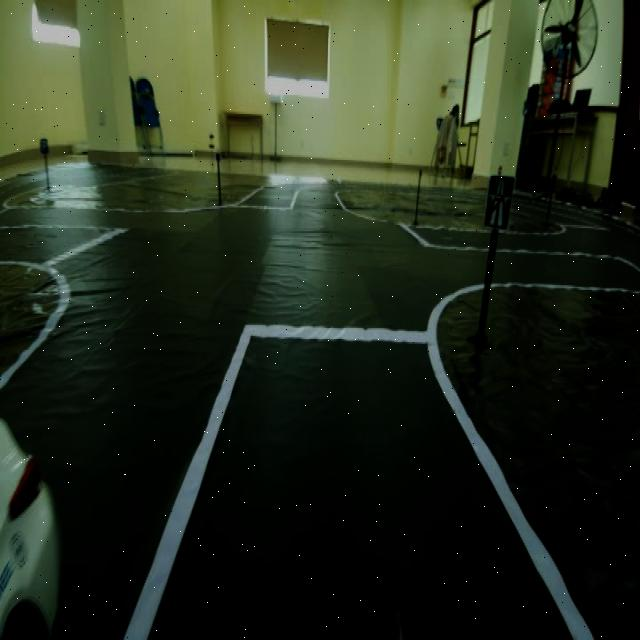highway_exit: (480, 166, 520, 247)
